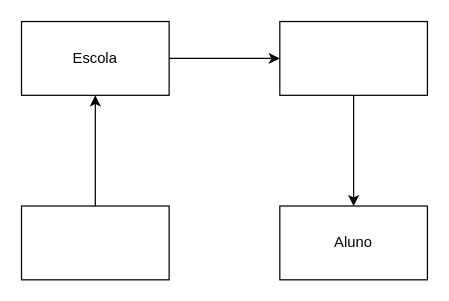
Some shapes in this 449 by 301 pixel diagram are drawn without their labels. Here are the shapes that lost their labels. From the top down, the centre of each, then its label:
At [353,57]: "Sala de Aula".
At [94,242]: "Tecnologia ao Alcance de Todos".
